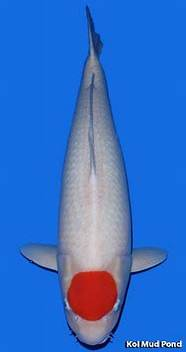sun: (20, 6, 167, 348)
